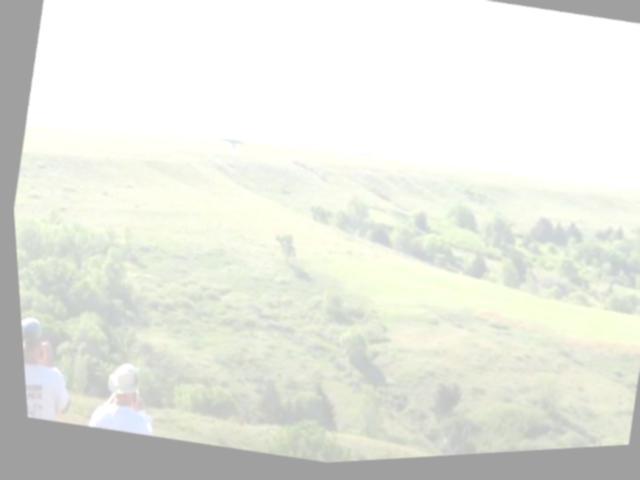iha: (212, 129, 245, 155)
